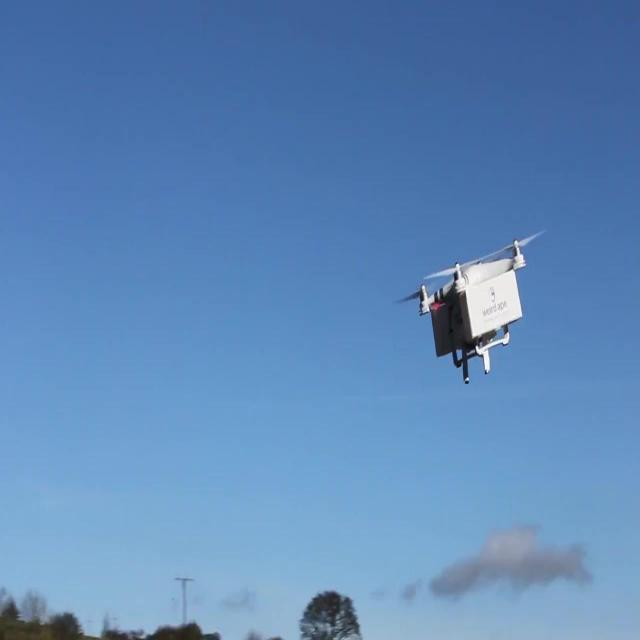UAV: (404, 231, 542, 383)
